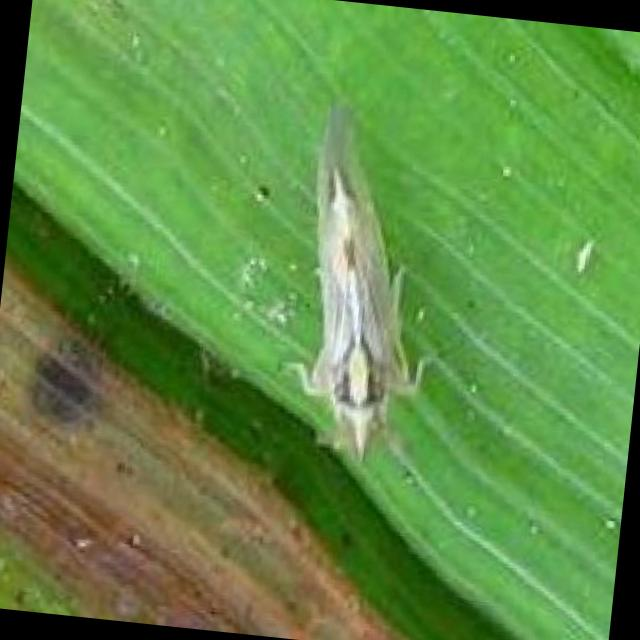brown-planthopper: (276, 100, 436, 470)
